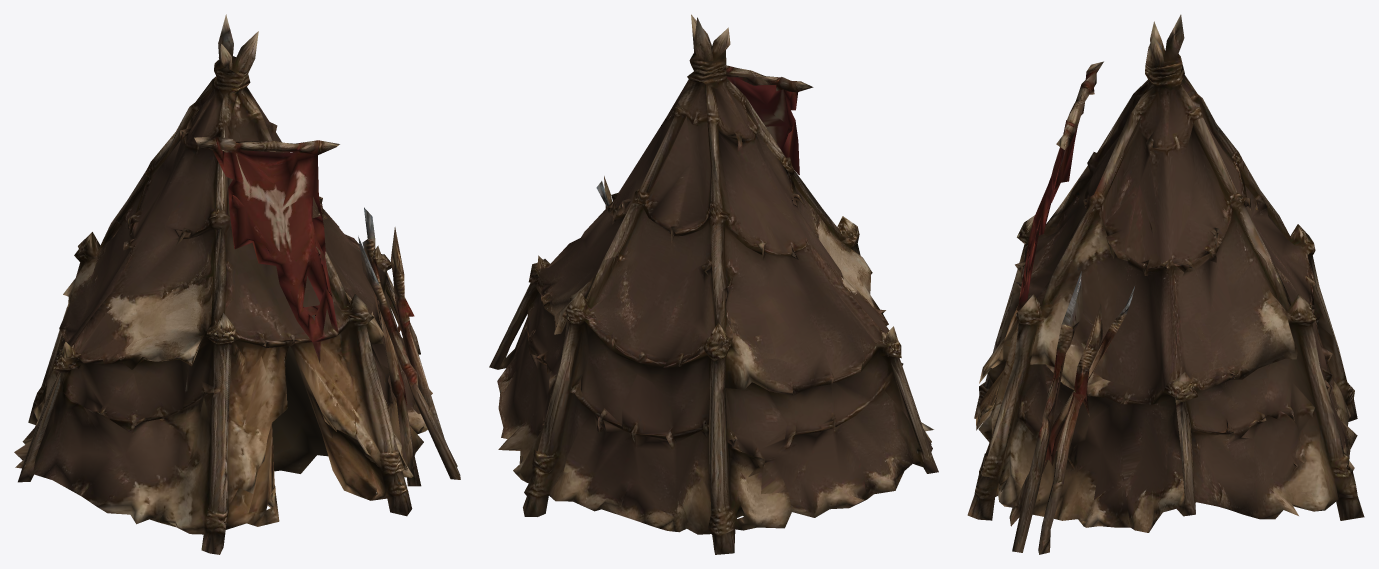
The model's file is Tent.fbx.
The picture shows the model from 3 angles, left to right: view 1: azimuth 30°, elevation 25°; view 2: azimuth 150°, elevation 25°; view 3: azimuth 270°, elevation 25°; orthographic projection. The views are drawn at different scales.
Parts seen in each view (by area): view 1: Tent_Body; view 2: Tent_Body; view 3: Tent_Body.
Part boxes in pixels (<box>): Tent_Body: <box>14,14,460,554</box>; Tent_Body: <box>489,14,938,554</box>; Tent_Body: <box>967,14,1364,554</box>.
Bounding box in the file's own units: 0.9788 × 1 × 0.7731.
1 material, 1 textured.
